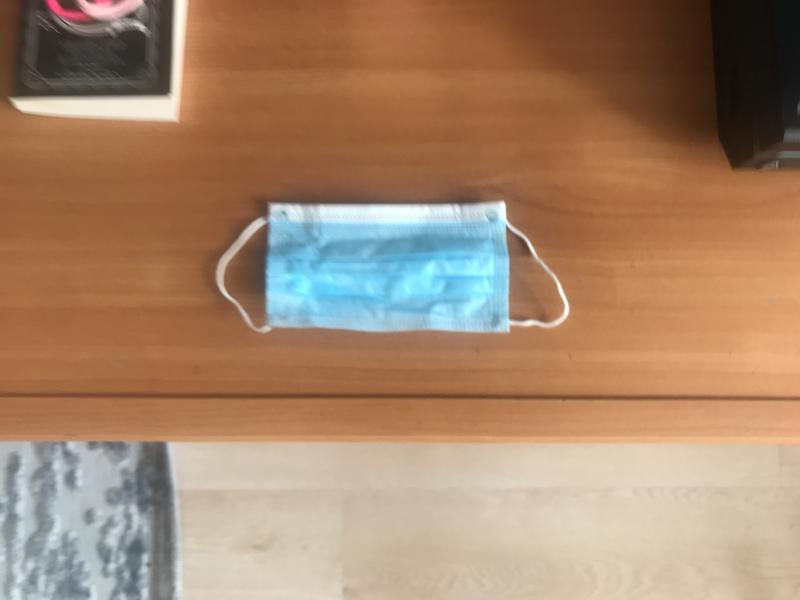medical_mask: (217, 201, 569, 337)
